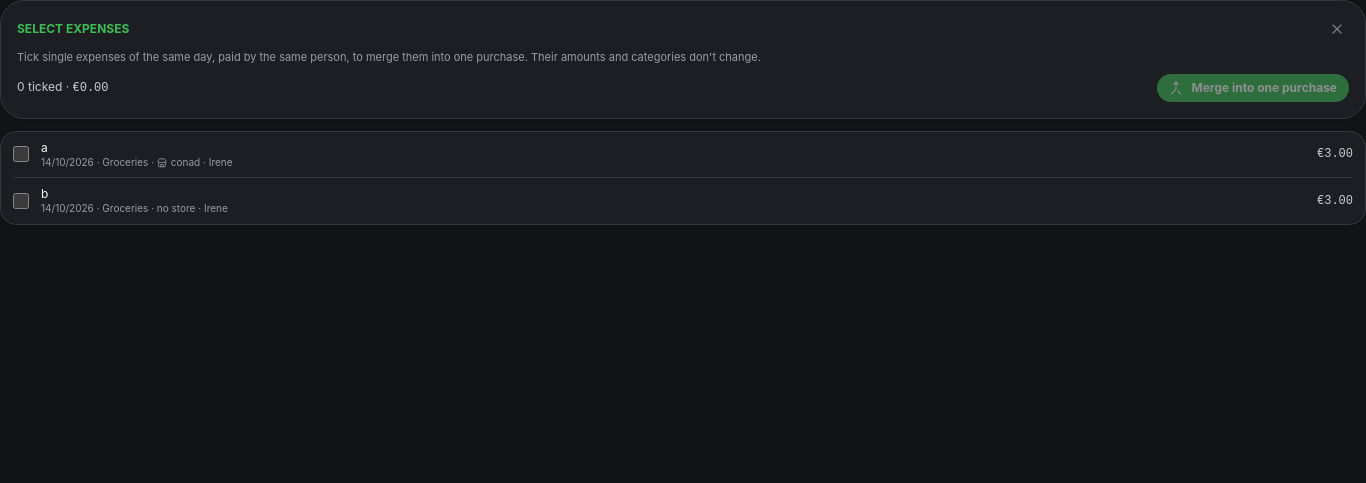
Test: Select → Merge into one purchase › asks for the store when they have none, then merges with one id
Click the checkbox named "Select a" at (21,154), box [13,146,29,162]
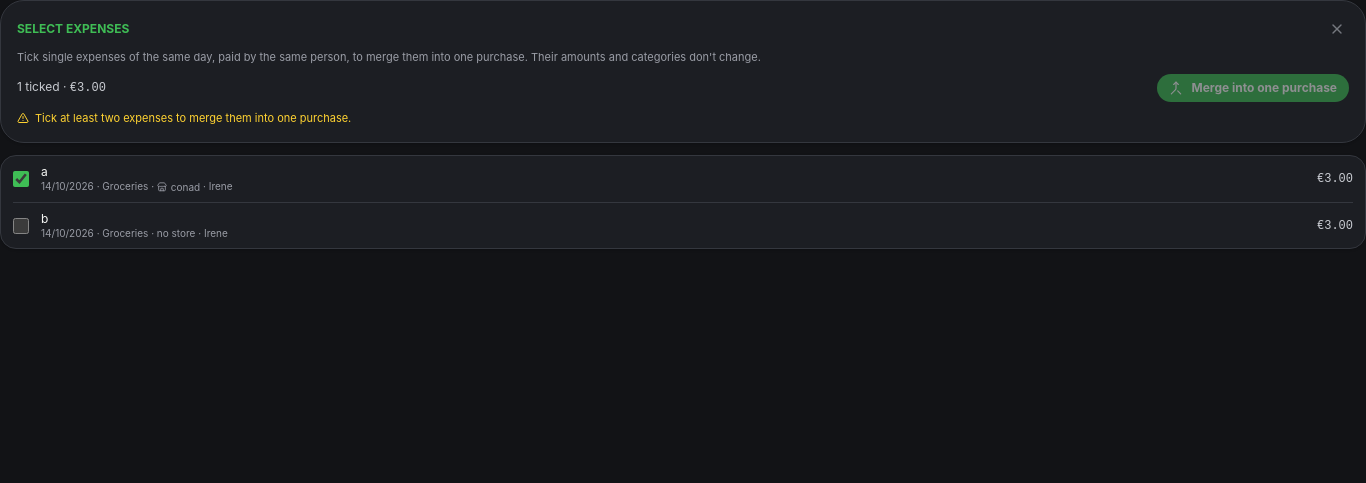
Click the checkbox named "Select b" at (21,226), box [13,218,29,234]
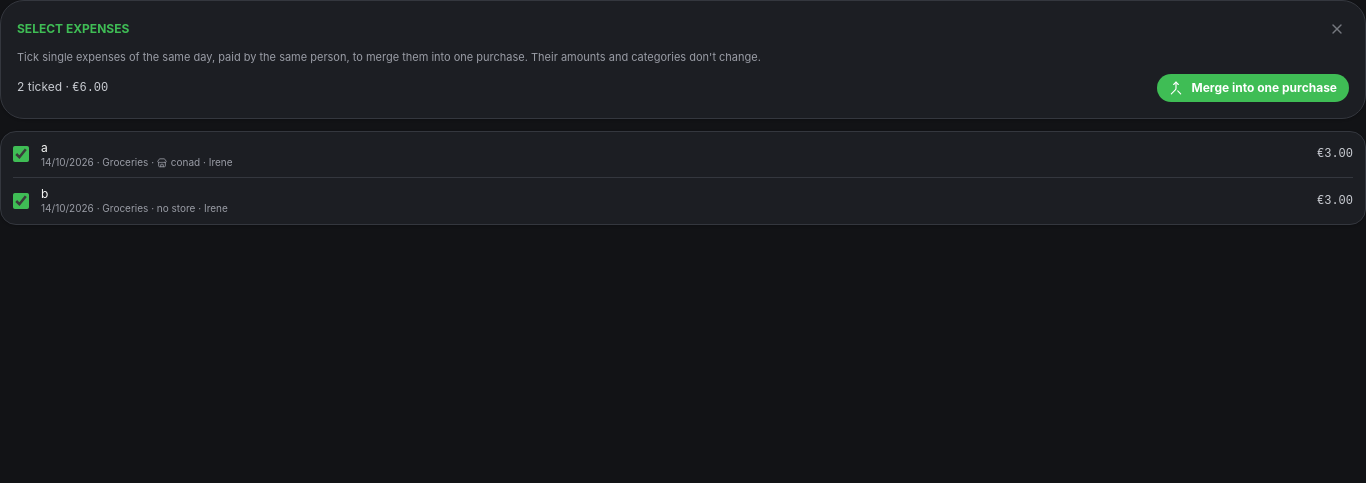
Click the button "Merge into one purchase" at (1253,88), box [1158,74,1349,102]
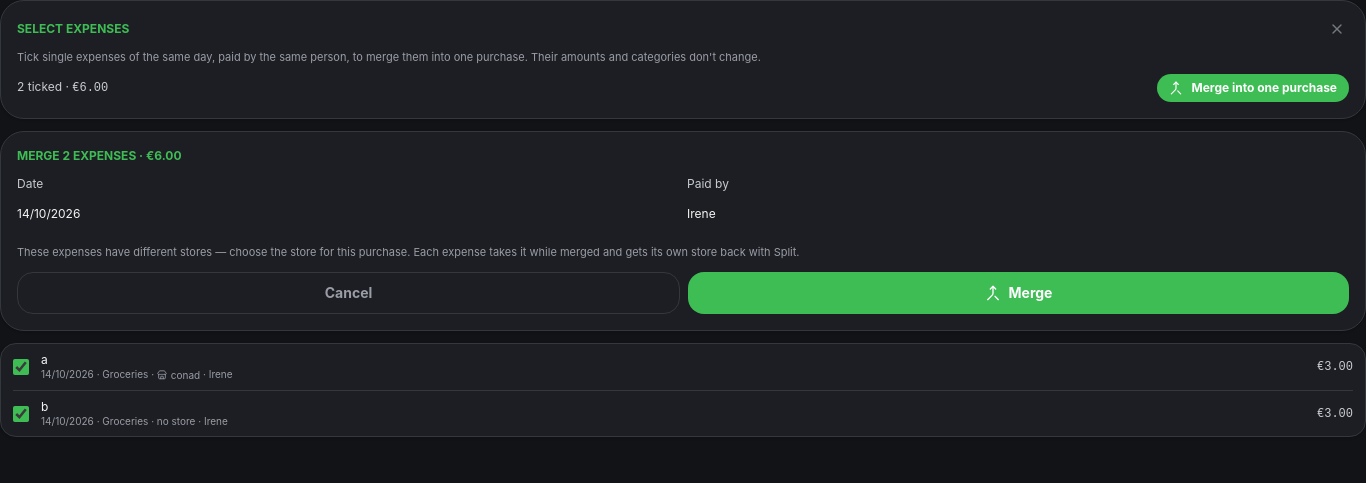
Check: the text "These expenses have different stores" is shown, box [17,244,212,258]
Click the button "Merge" at (1018,293), box [688,272,1349,314]
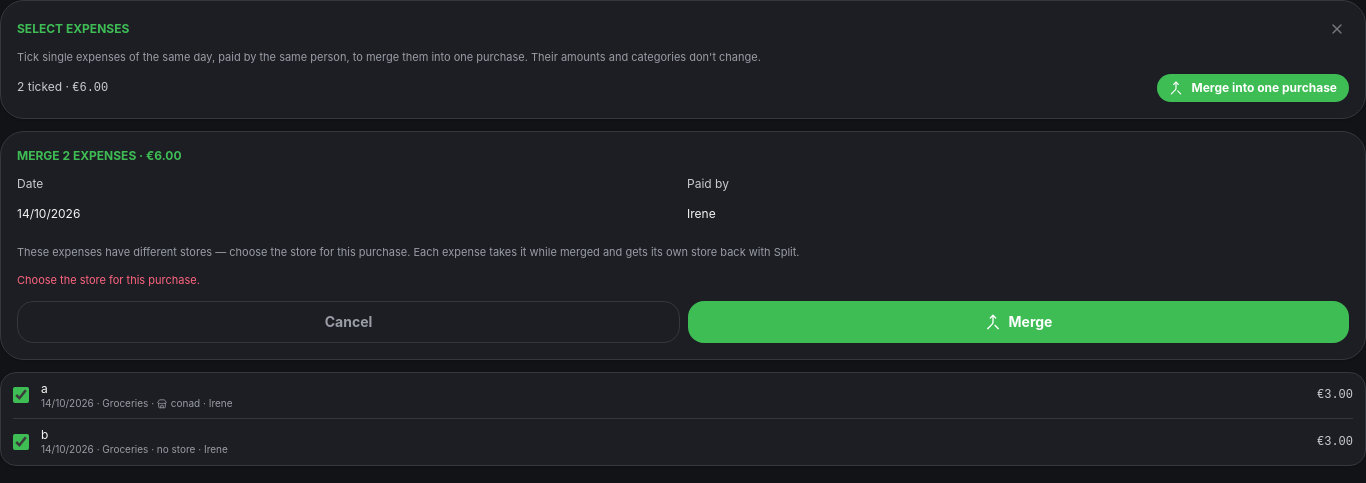
Check: the text "Choose the store for this purchase." is shown, box [17,273,200,287]
